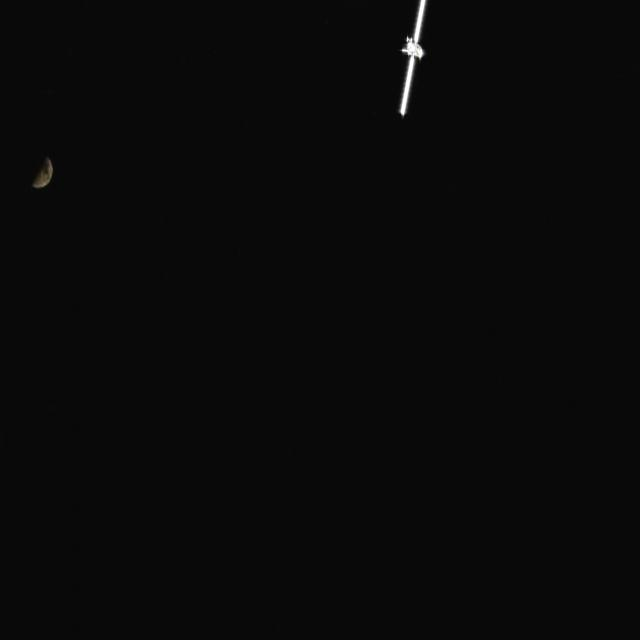satellite: (377, 0, 449, 121)
